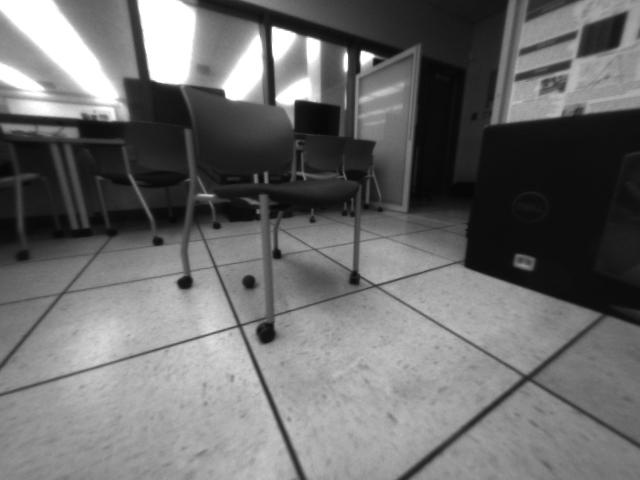dogtoy: (234, 263, 261, 296)
